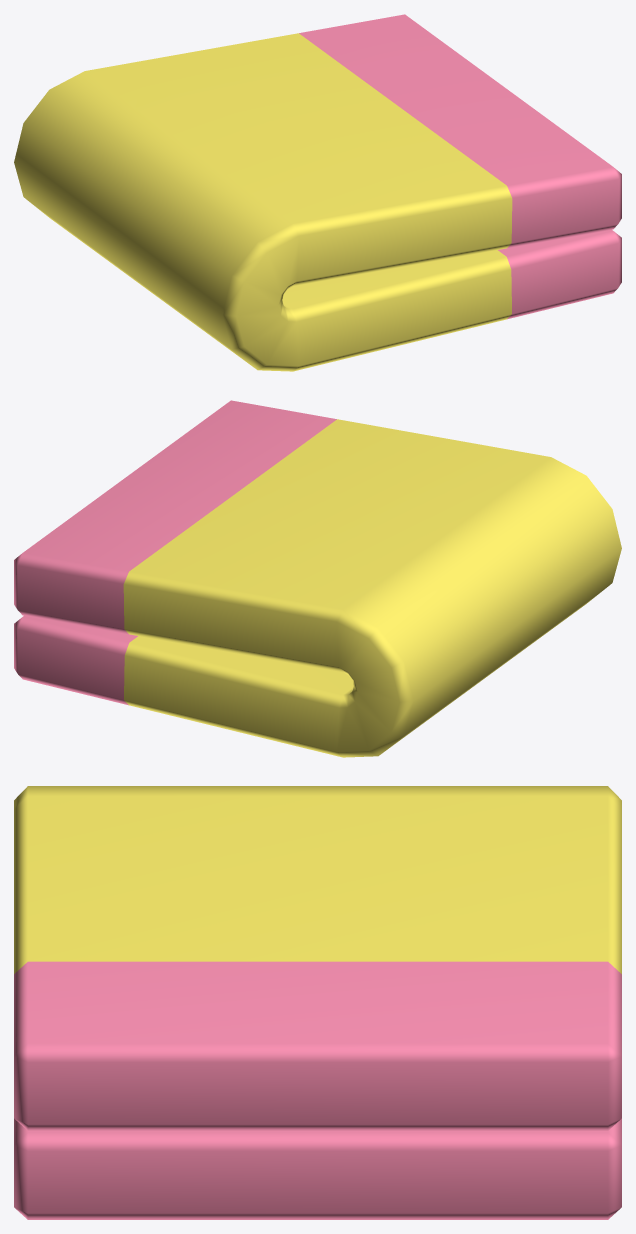
The model's file is Public_13_Towel_3.glb.
3 renders of one model, top to bottom at view 1: azimuth 30°, elevation 25°; view 2: azimuth 150°, elevation 25°; view 3: azimuth 270°, elevation 25°, orthographic. The views are drawn at different scales.
Parts seen in each view (by area): view 1: Public_13_Towel_3; view 2: Public_13_Towel_3; view 3: Public_13_Towel_3.
Boxes of the visible parts, x1,y1,x2,y2 form: Public_13_Towel_3: (14, 14, 621, 371); Public_13_Towel_3: (14, 400, 621, 757); Public_13_Towel_3: (14, 786, 621, 1219).
Size of the model in its own units: 0.8268 by 0.2926 by 0.7823.
1 material, 1 textured.
